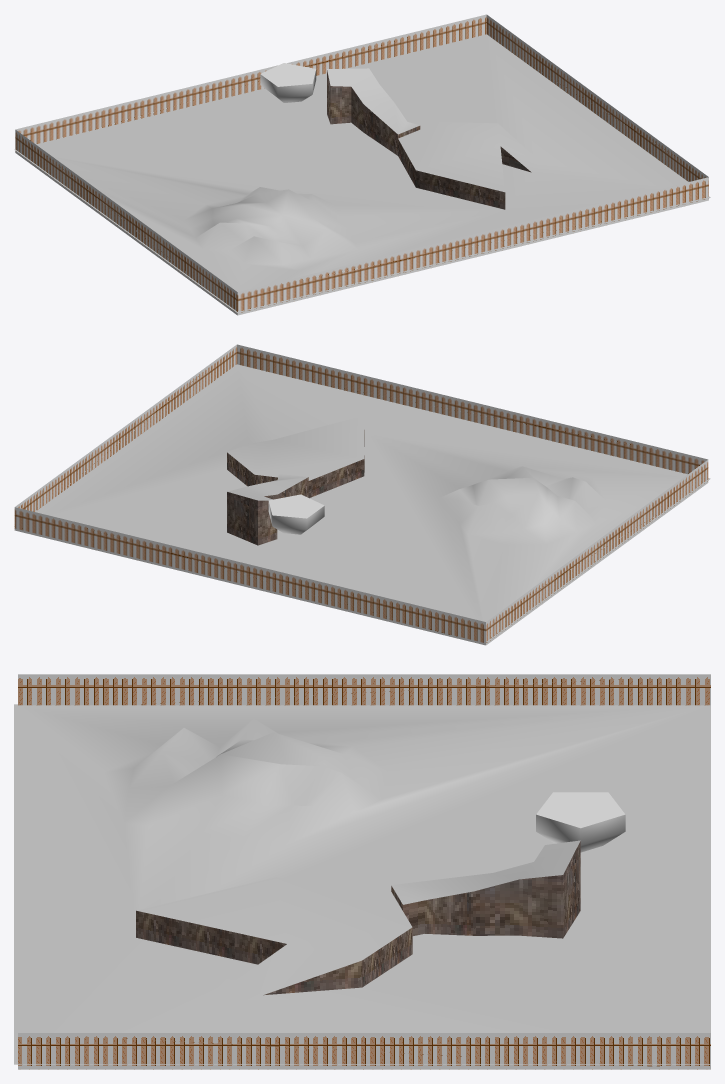
Rendered from level.fbx.
3 renders of one model, top to bottom at view 1: azimuth 30°, elevation 25°; view 2: azimuth 150°, elevation 25°; view 3: azimuth 270°, elevation 25°, orthographic. The views are drawn at different scales.
Visible parts, largest first — view 1: Plane001, Plane002, walls, Cylinder001; view 2: Plane001, Plane002, walls, Cylinder001; view 3: Plane001, Plane002, walls, Cylinder001.
Boxes of the visible parts, x1,y1,x2,y2 form: Plane001: (14,34,710,313); Plane002: (15,14,708,315); walls: (327,70,531,209); Cylinder001: (260,63,316,102); Plane001: (14,364,710,642); Plane002: (14,344,708,645); walls: (227,430,364,545); Cylinder001: (268,494,324,534); Plane001: (14,704,710,1064); Plane002: (18,674,710,1069); walls: (136,841,580,995); Cylinder001: (536,792,625,852).
Bounding box in the file's own units: 60.14 × 6.22 × 49.2.
